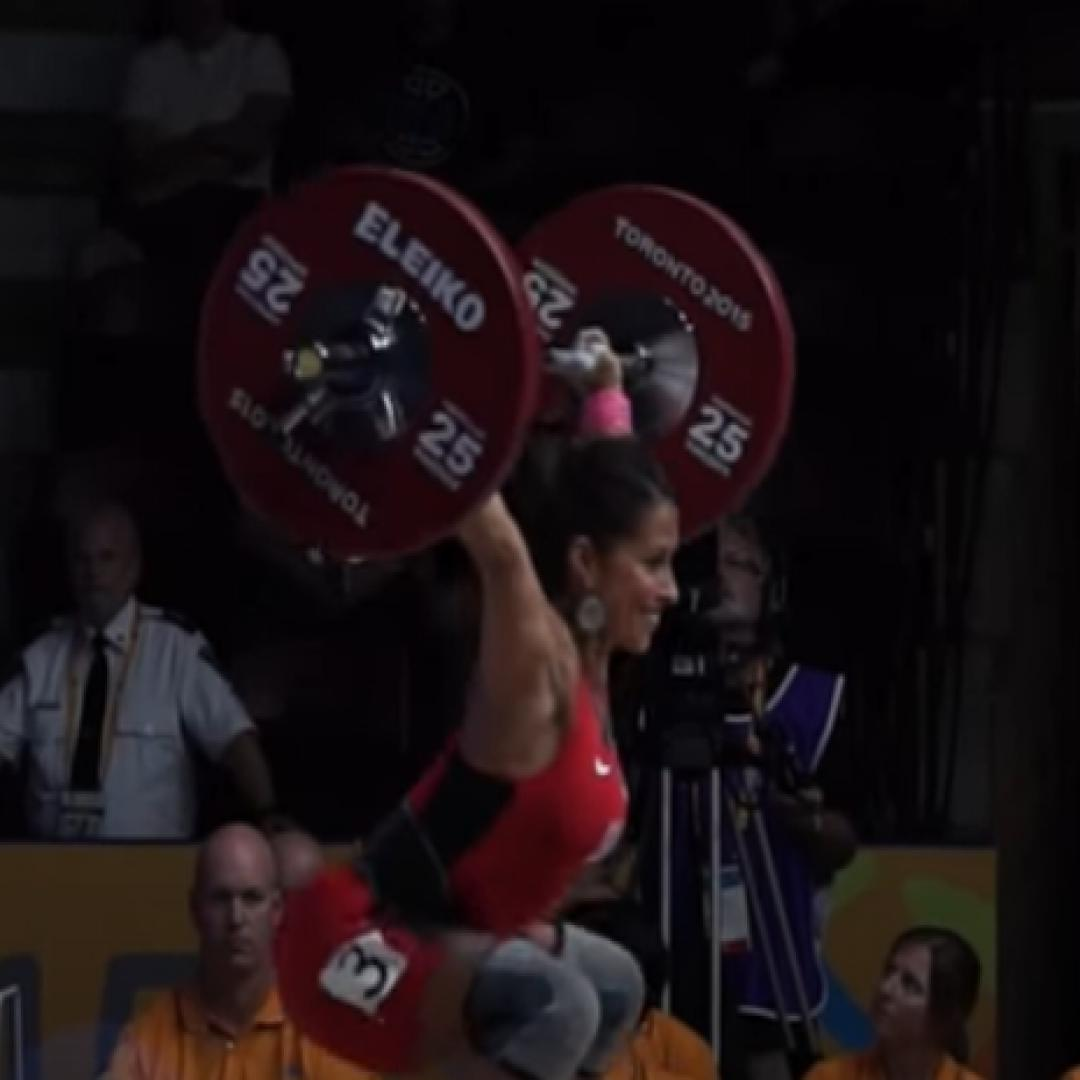Bar: (284, 339, 330, 385)
Barbell: (200, 168, 524, 559)
